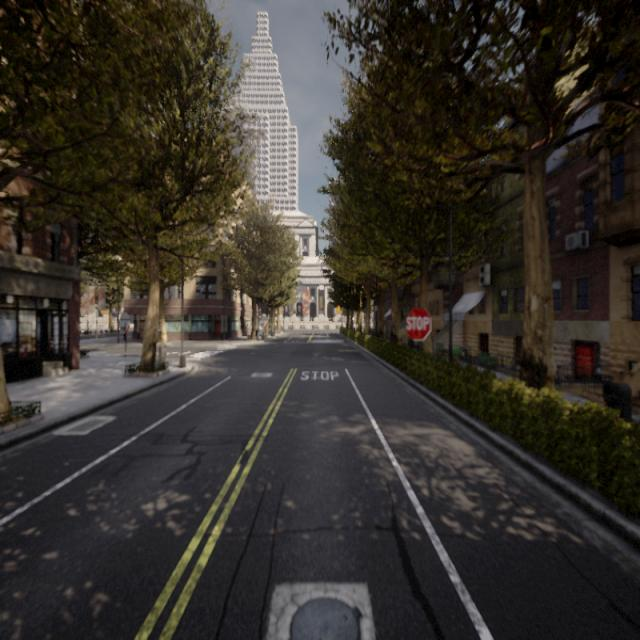stop sign: (403, 304, 433, 343)
